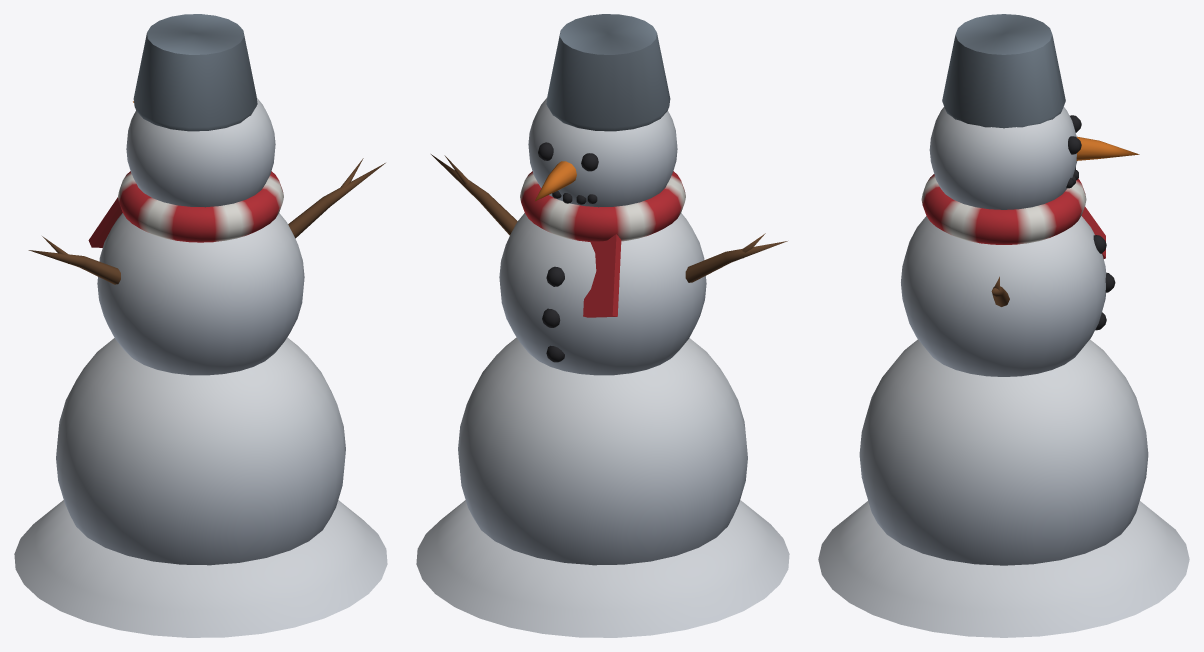
Rendered from Xmas_Snowman.fbx.
3 renders of one model, left to right at view 1: azimuth 30°, elevation 25°; view 2: azimuth 150°, elevation 25°; view 3: azimuth 270°, elevation 25°, orthographic.
Parts seen in each view (by area): view 1: Xmas_Snowman; view 2: Xmas_Snowman; view 3: Xmas_Snowman.
Boxes of the visible parts, <box> form: Xmas_Snowman: <box>14,14,387,637</box>; Xmas_Snowman: <box>416,14,789,637</box>; Xmas_Snowman: <box>818,14,1189,637</box>.
Size of the model in its own units: 20 by 29.38 by 18.
